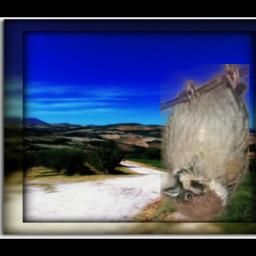Sparrow: (162, 65, 251, 221)
